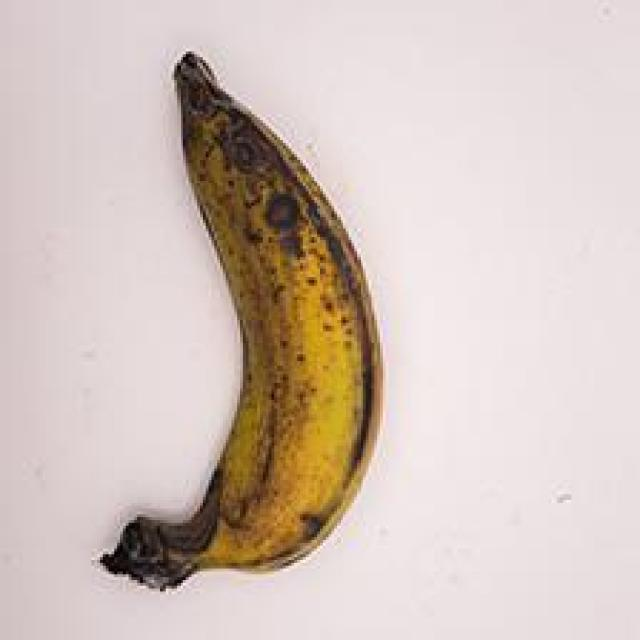Overripe: (37, 26, 420, 611)
